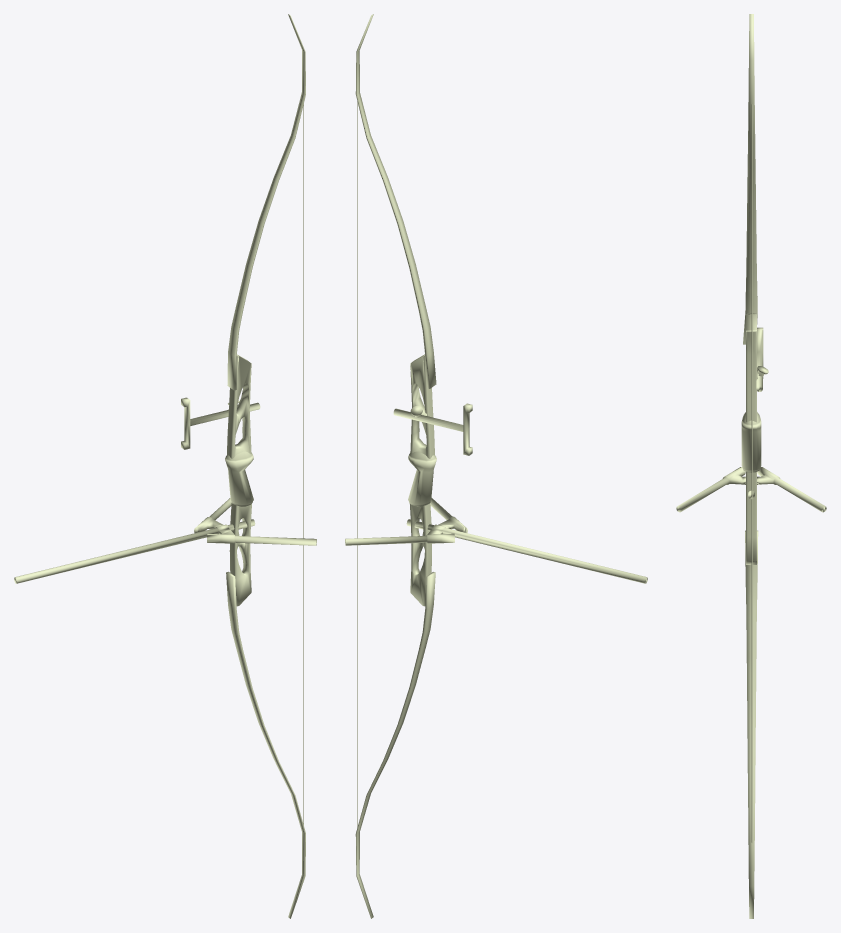
The model's file is adobe_arc_classique.gltf.
3 views of the same model, side by side, from view 1: azimuth 30°, elevation 25°; view 2: azimuth 150°, elevation 25°; view 3: azimuth 270°, elevation 25° (orthographic).
Visible parts, largest first — view 1: arc_classique; view 2: arc_classique; view 3: arc_classique.
Part boxes in pixels (box(x1,y1,x2,y2)): arc_classique: box(14, 14, 316, 918); arc_classique: box(345, 14, 647, 918); arc_classique: box(676, 14, 826, 918).
Bounding box in the file's own units: 0.5662 × 1.69 × 0.255.
